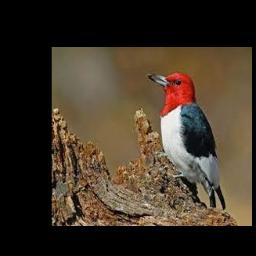Woodpecker: (148, 72, 226, 211)
